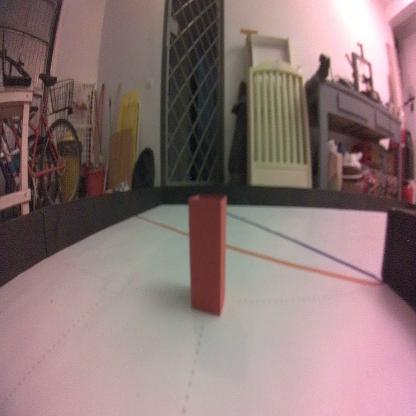red: (187, 192, 226, 320)
